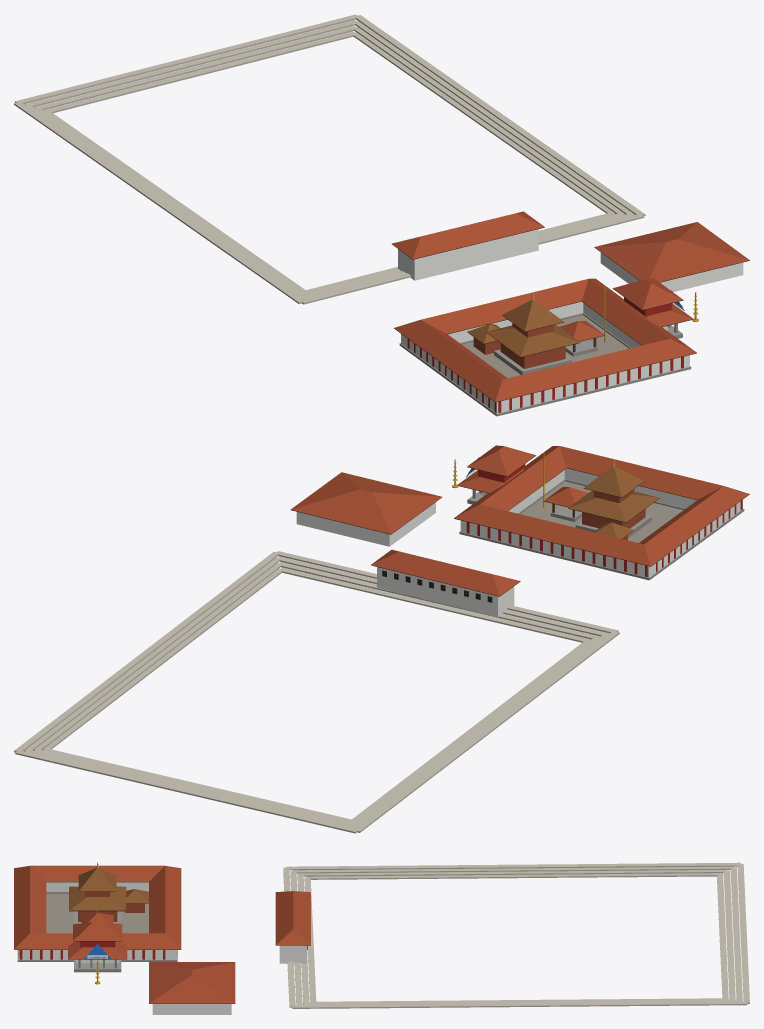
File: tali.glb
The picture shows the model from 3 angles, top to bottom: view 1: azimuth 30°, elevation 25°; view 2: azimuth 150°, elevation 25°; view 3: azimuth 270°, elevation 25°; orthographic projection. The views are drawn at different scales.
Parts seen in each view (by area): view 1: tali; view 2: tali; view 3: tali.
Part boxes in pixels (x1=…): tali: x1=14, y1=14, x2=749, y2=416; tali: x1=14, y1=445, x2=749, y2=833; tali: x1=14, y1=862, x2=749, y2=1014.
Bounding box in the file's own units: 91.35 × 16.05 × 187.
